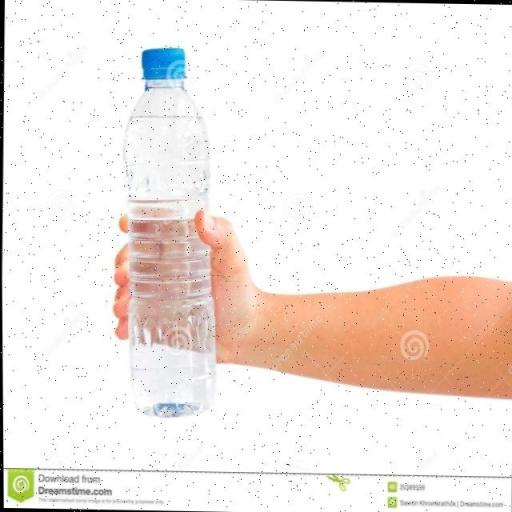plastic: (114, 44, 224, 422)
